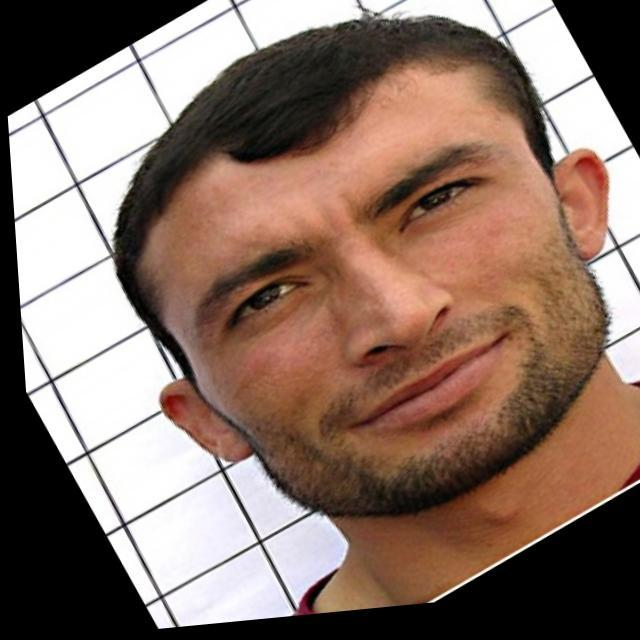Nonhelmet: (93, 10, 616, 523)
